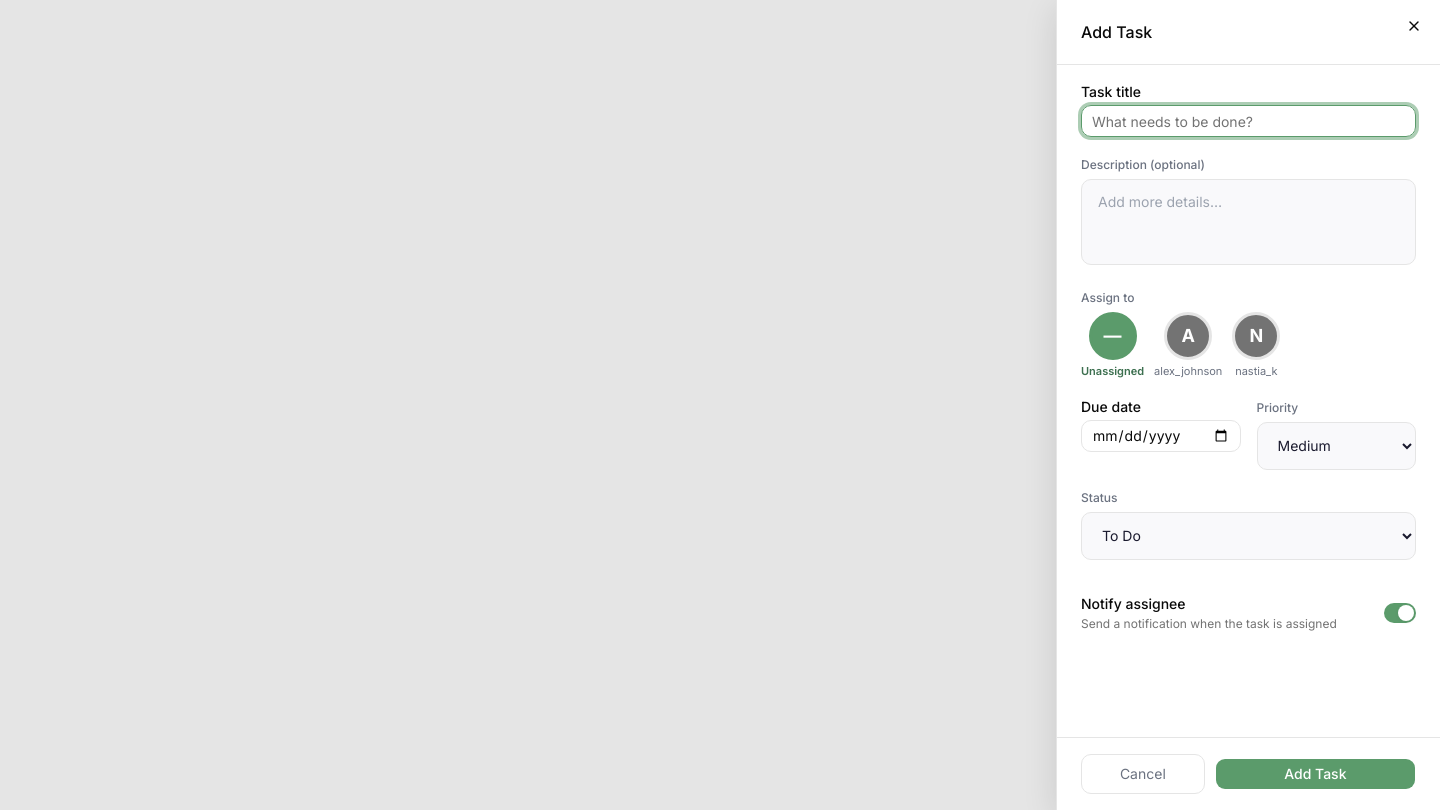
TaskDrawer › surfaces a generic error on a 500 response
Type "Book flights" into the field labelled "Task title". click: coordinates (1248, 121)
box: [1081,105,1416,137]
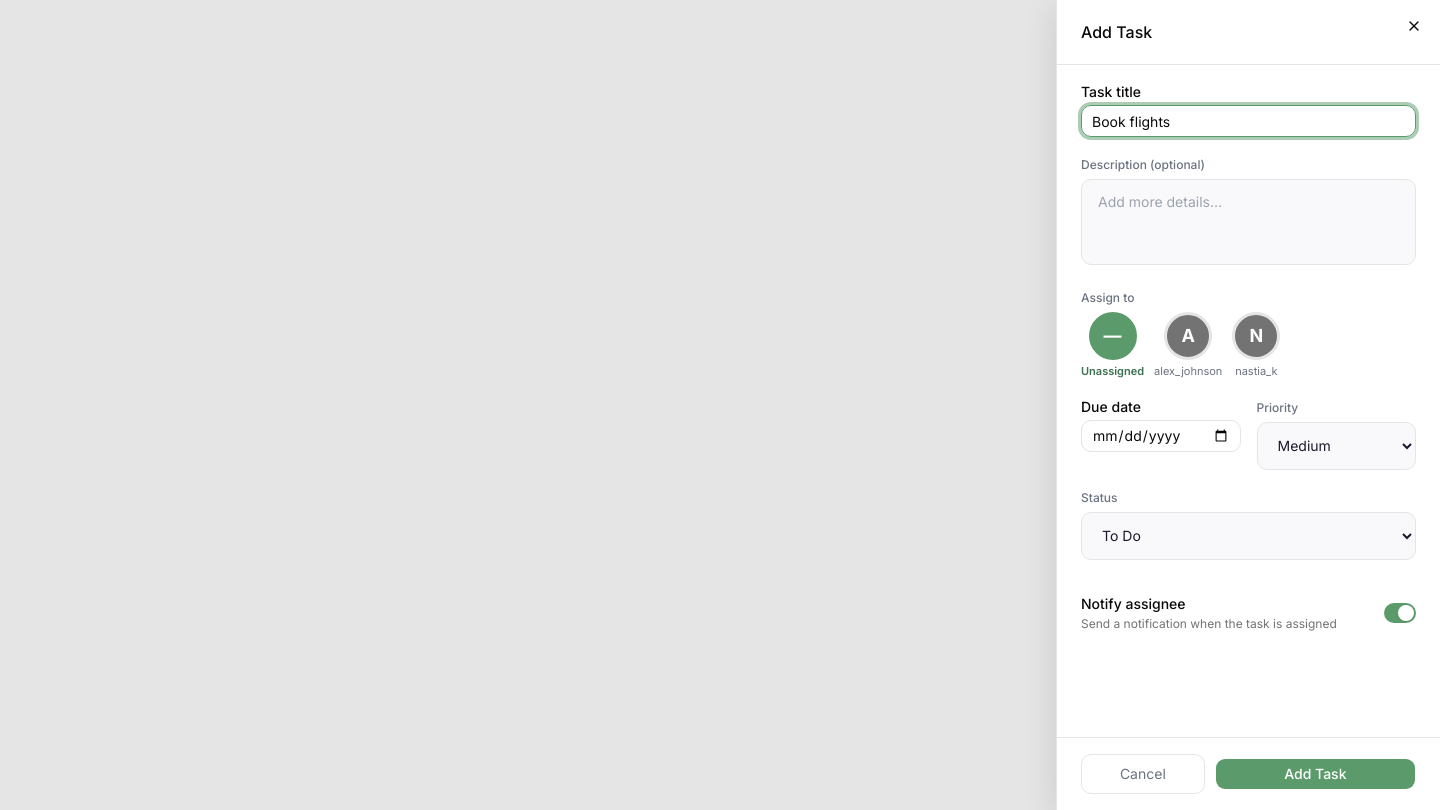
Click the button "Add Task". click: coordinates (1315, 774)
box: [1215,758,1416,790]
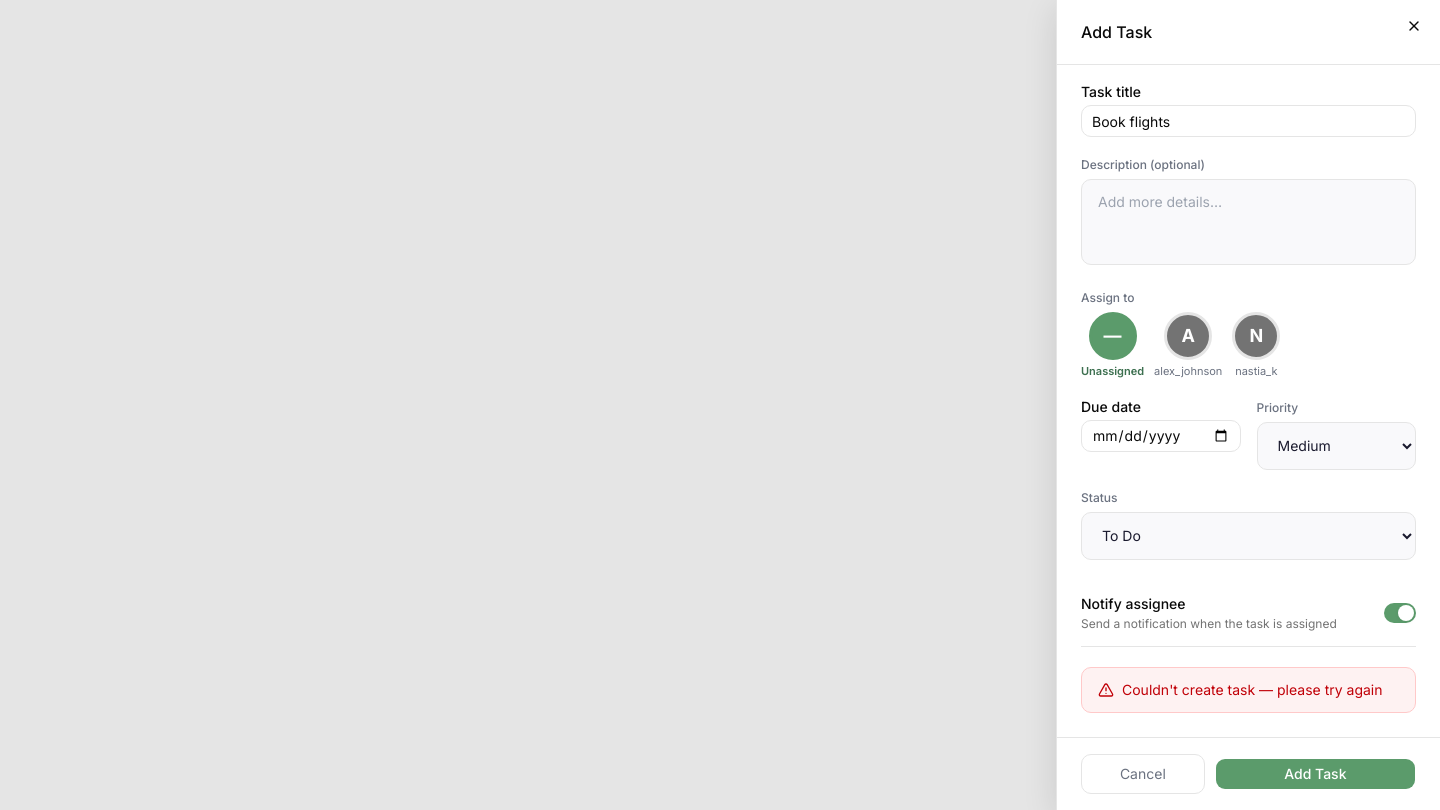
Expected: the message reads "Couldn't create task — please try again", [1122,681,1382,698]
